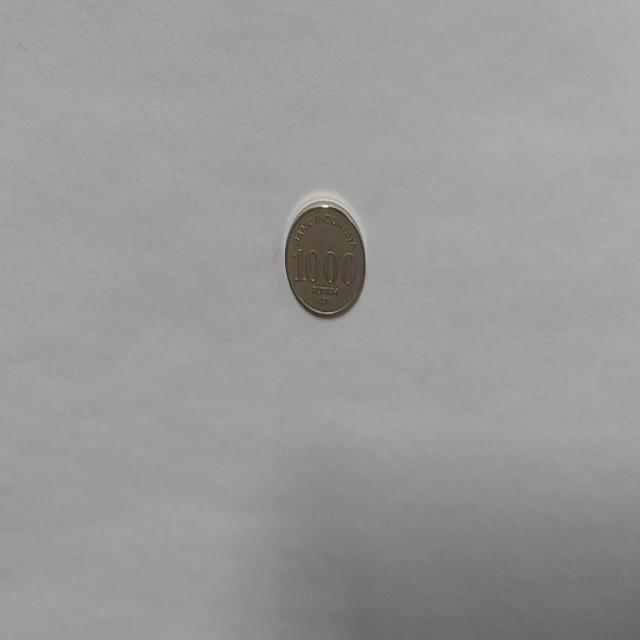seribu rupiah koin: (283, 196, 367, 320)
